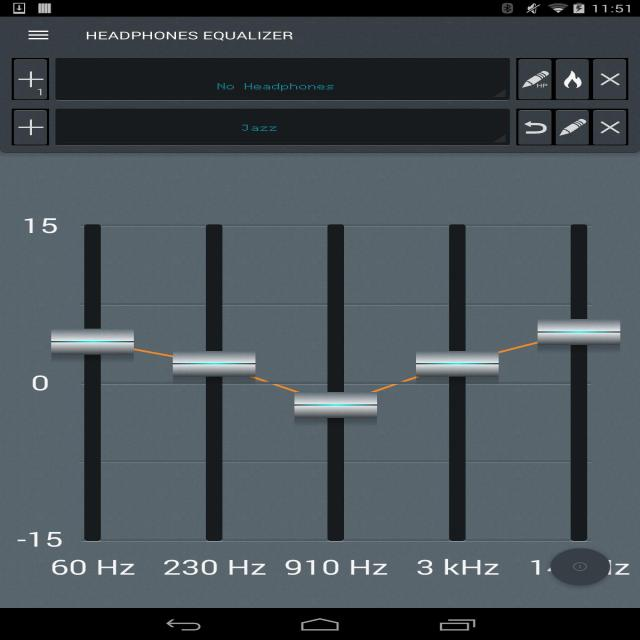button: (529, 314, 629, 351), (412, 347, 504, 381), (45, 327, 138, 358), (169, 349, 257, 381), (292, 393, 384, 421), (555, 547, 604, 586), (588, 58, 630, 102), (14, 56, 48, 102), (518, 57, 552, 103), (552, 109, 591, 146), (557, 58, 589, 102), (595, 109, 627, 148), (14, 108, 46, 146), (519, 111, 552, 145), (26, 24, 54, 44)
heading: (78, 25, 302, 47)
text: (49, 555, 640, 587)
